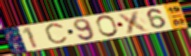1: (22, 26, 40, 50)
6: (146, 8, 168, 29)
9: (72, 18, 96, 41)
C: (43, 21, 70, 47)
O: (95, 15, 120, 38)
X: (116, 10, 153, 35)
